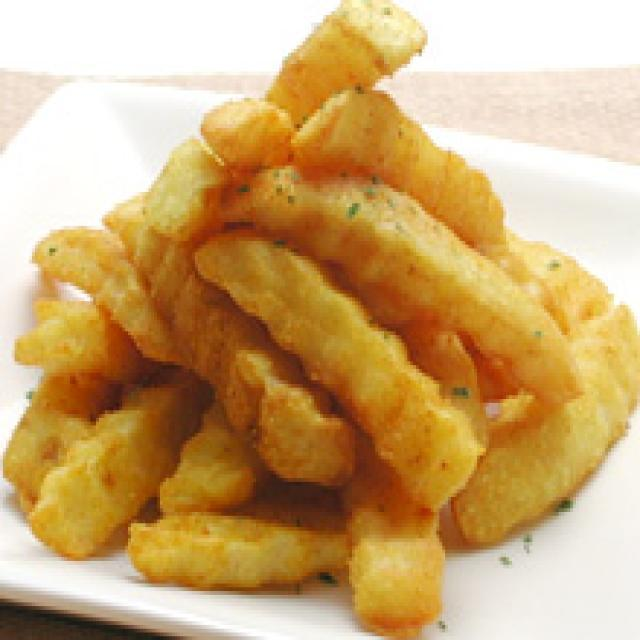French Fries: (48, 21, 632, 628)
